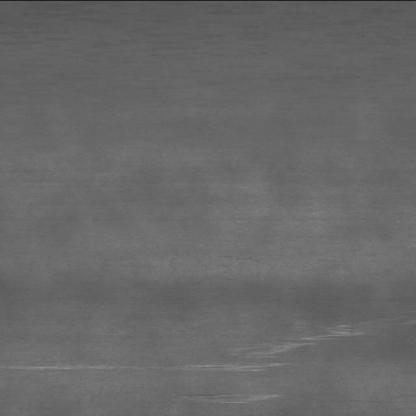silk_spot: (46, 308, 381, 414)
